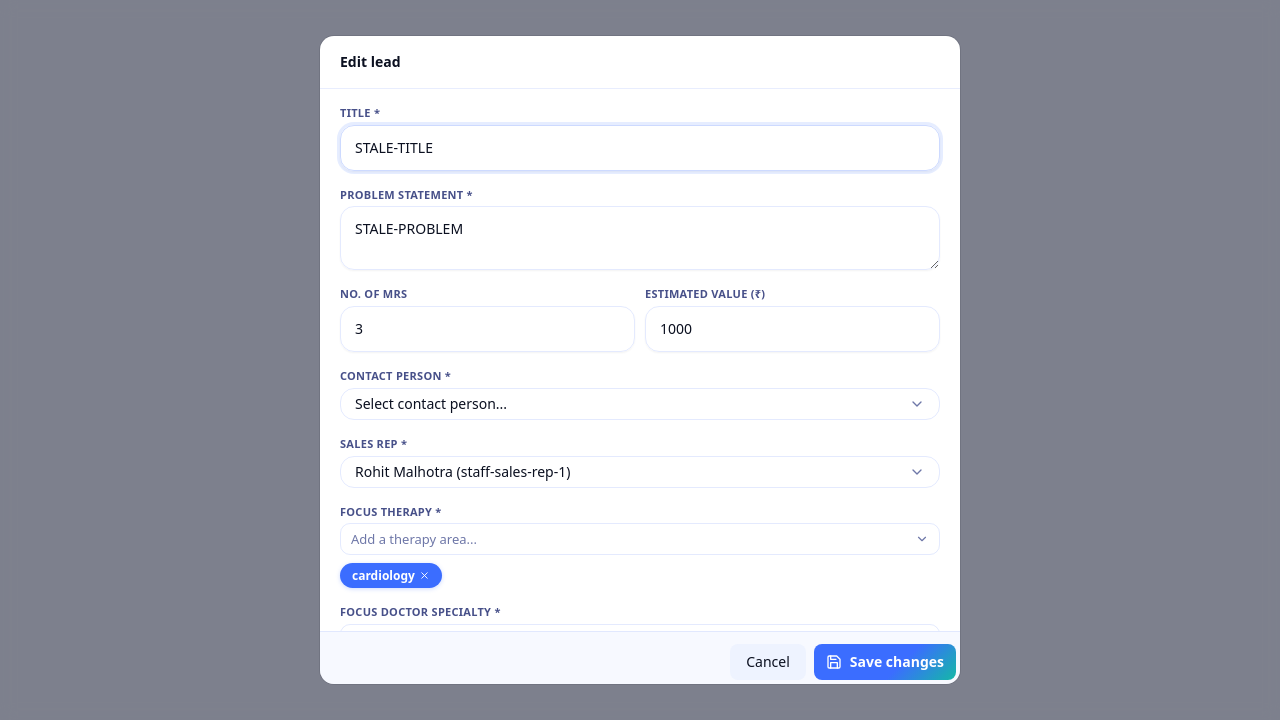
Test: EditLeadModal — sales rep picker is scoped to sales-rep/sales-head role types › lists only roles resolved via the sales-rep and sales-head role-type lookups
The width and height of the screenshot is (1280, 720).
Expected: the heading "Edit lead" is shown, [340,52,401,71]
Click the dropdown labelled "Rohit Malhotra (staff-sales-rep-1) ▼": {"x": 463, "y": 471} [340,456,940,488]
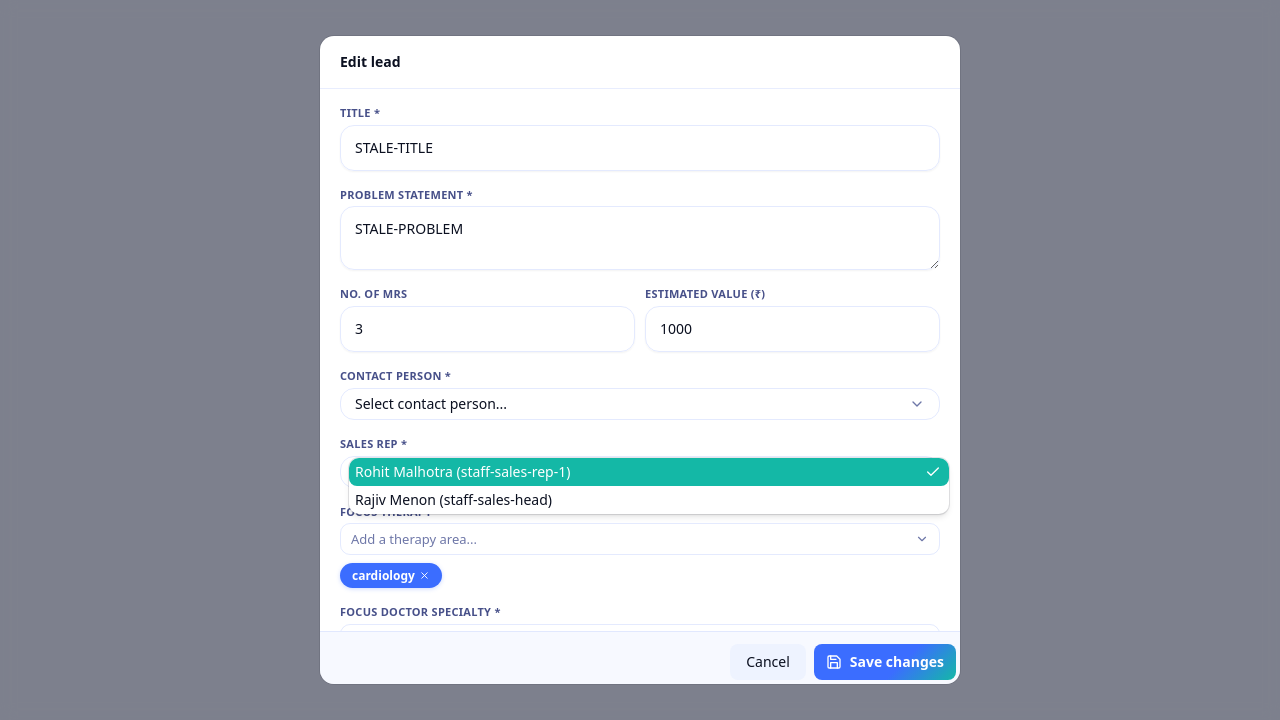
Expected: the option "Rohit Malhotra (staff-sales-rep-1)" is shown, [349,458,949,486]
Expected: the option "Rajiv Menon (staff-sales-head)" is shown, [355,490,552,508]
